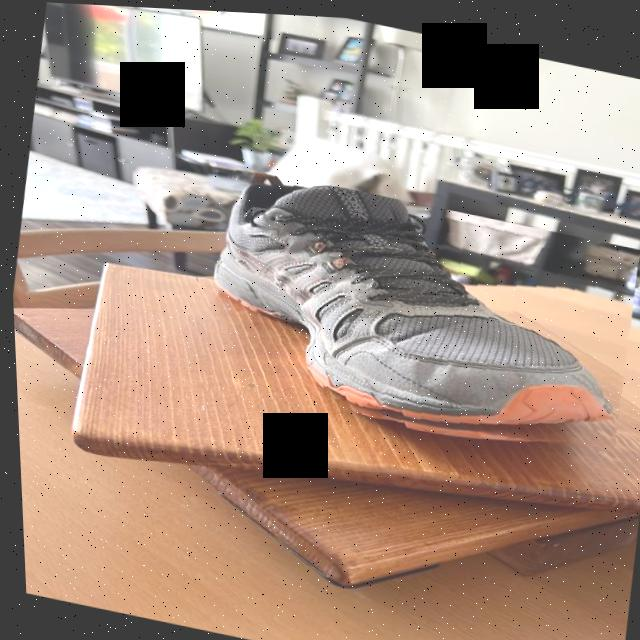shoe: (190, 160, 640, 470)
